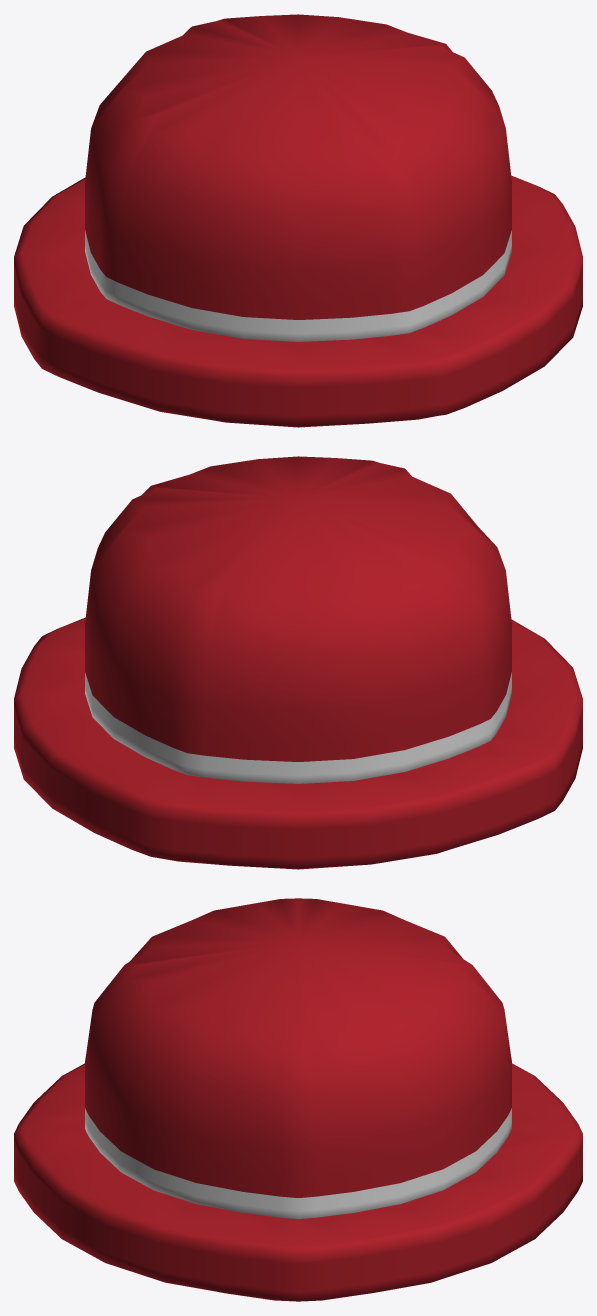
The model's file is hat.fbx.
The picture shows the model from 3 angles, top to bottom: view 1: azimuth 30°, elevation 25°; view 2: azimuth 150°, elevation 25°; view 3: azimuth 270°, elevation 25°; orthographic projection. The views are drawn at different scales.
Parts seen in each view (by area): view 1: Cube.001; view 2: Cube.001; view 3: Cube.001.
Boxes of the visible parts, x1,y1,x2,y2 form: Cube.001: [14, 14, 582, 427]; Cube.001: [14, 456, 582, 869]; Cube.001: [14, 898, 582, 1301].
Size of the model in its own units: 108 by 51.12 by 108.
